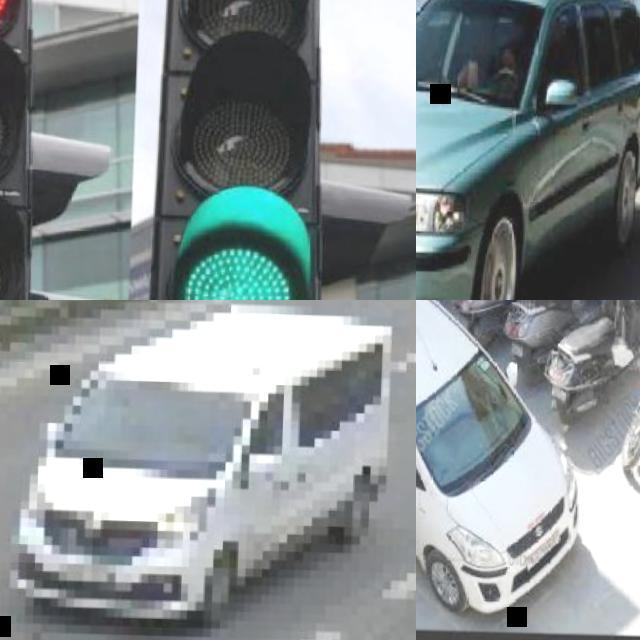car: (417, 0, 639, 295), (416, 299, 581, 626), (138, 185, 318, 302)
